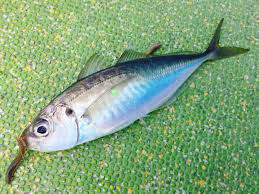azi: (16, 20, 244, 145)
